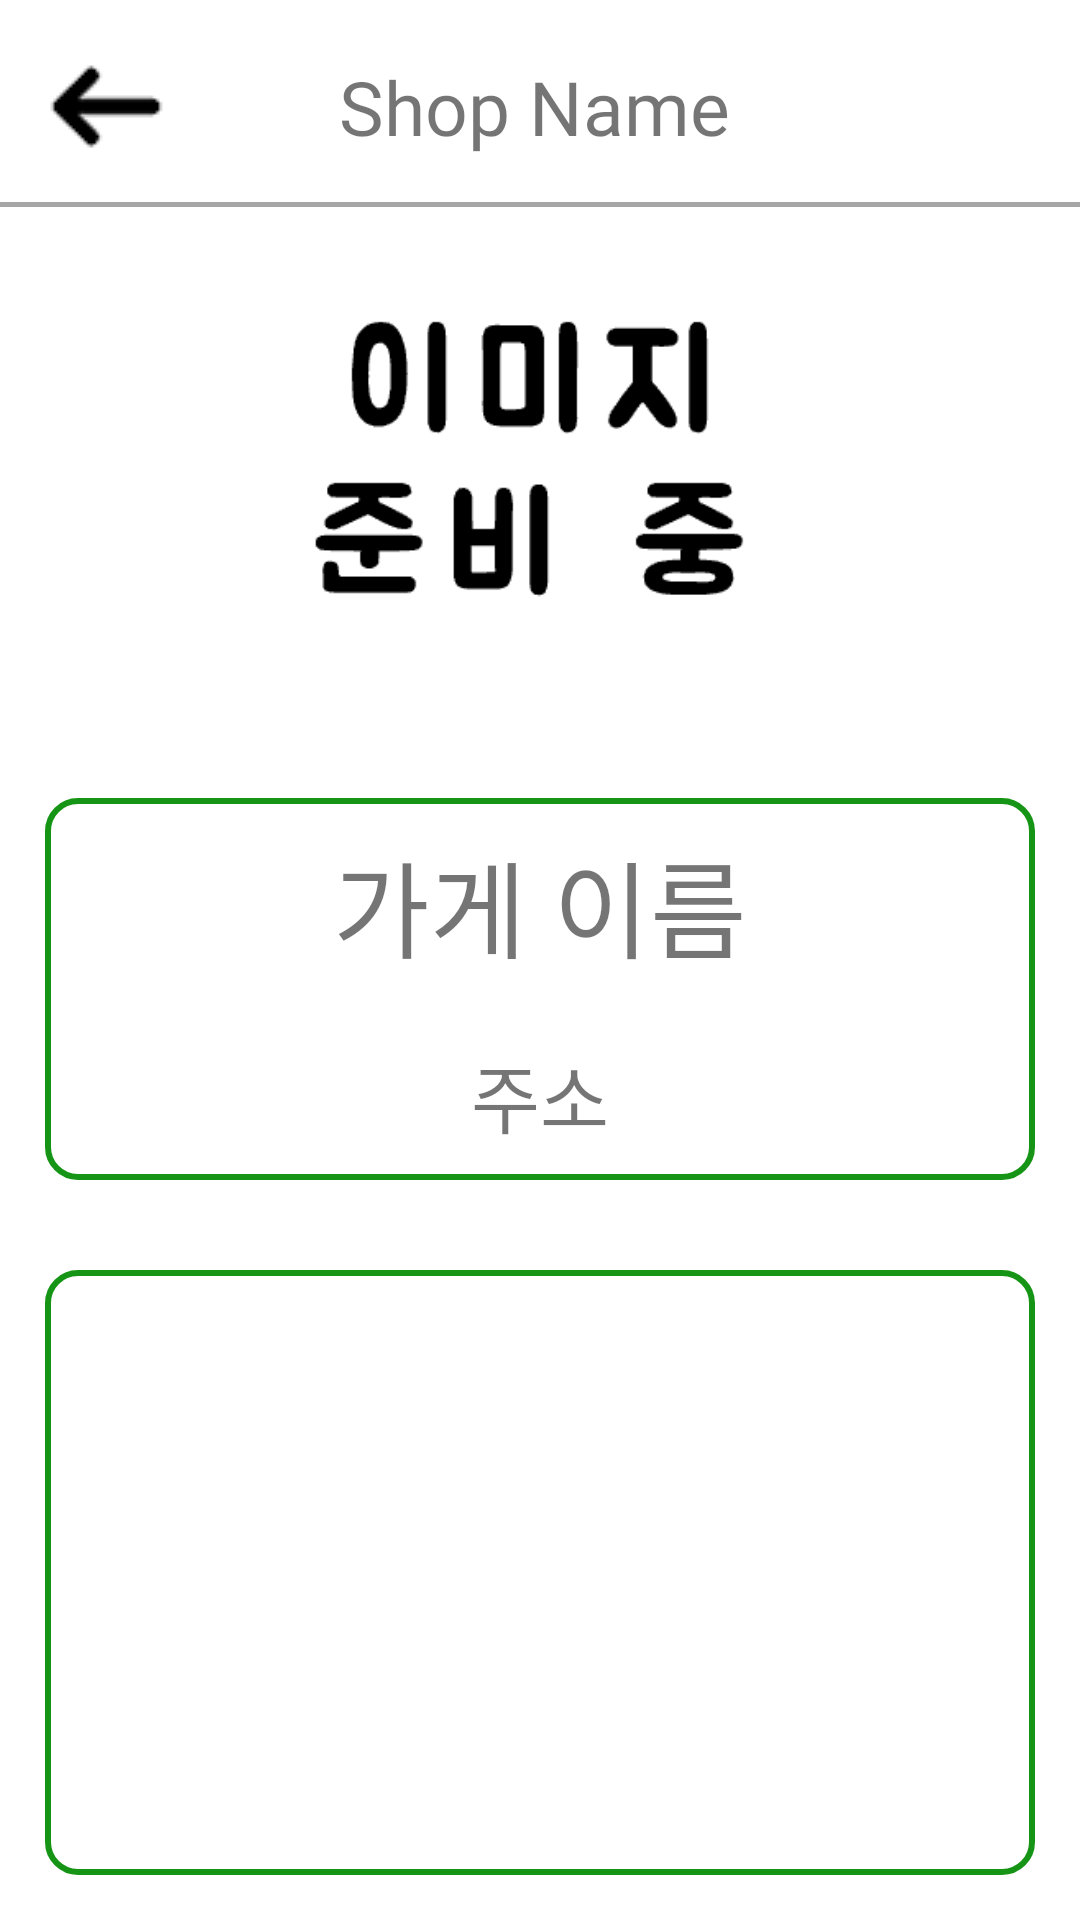

Screen size 1080w x 1920h. Icon name, then its box in pixels as (x1, y1, x2, y2):
back: (51, 65, 162, 148)
